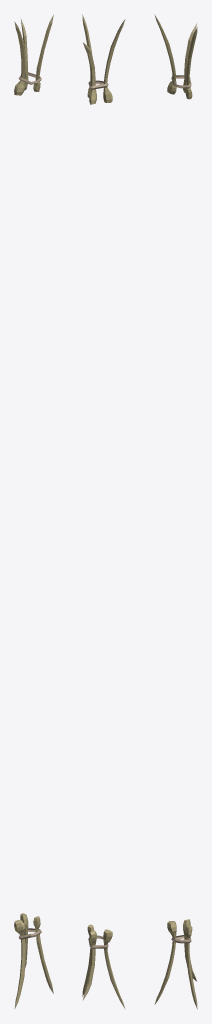
Rendered from smallBowTribeTip.glb.
The picture shows the model from 3 angles, left to right: view 1: azimuth 30°, elevation 25°; view 2: azimuth 150°, elevation 25°; view 3: azimuth 330°, elevation 25°; orthographic projection.
Parts seen in each view (by area): view 1: smallBowTribeTip; view 2: smallBowTribeTip; view 3: smallBowTribeTip.
Boxes of the visible parts, <box> form: smallBowTribeTip: <box>14,14,53,1008</box>; smallBowTribeTip: <box>82,14,125,1009</box>; smallBowTribeTip: <box>154,14,197,1009</box>.
Size of the model in its own units: 0.0613 by 1.41 by 0.0471.
